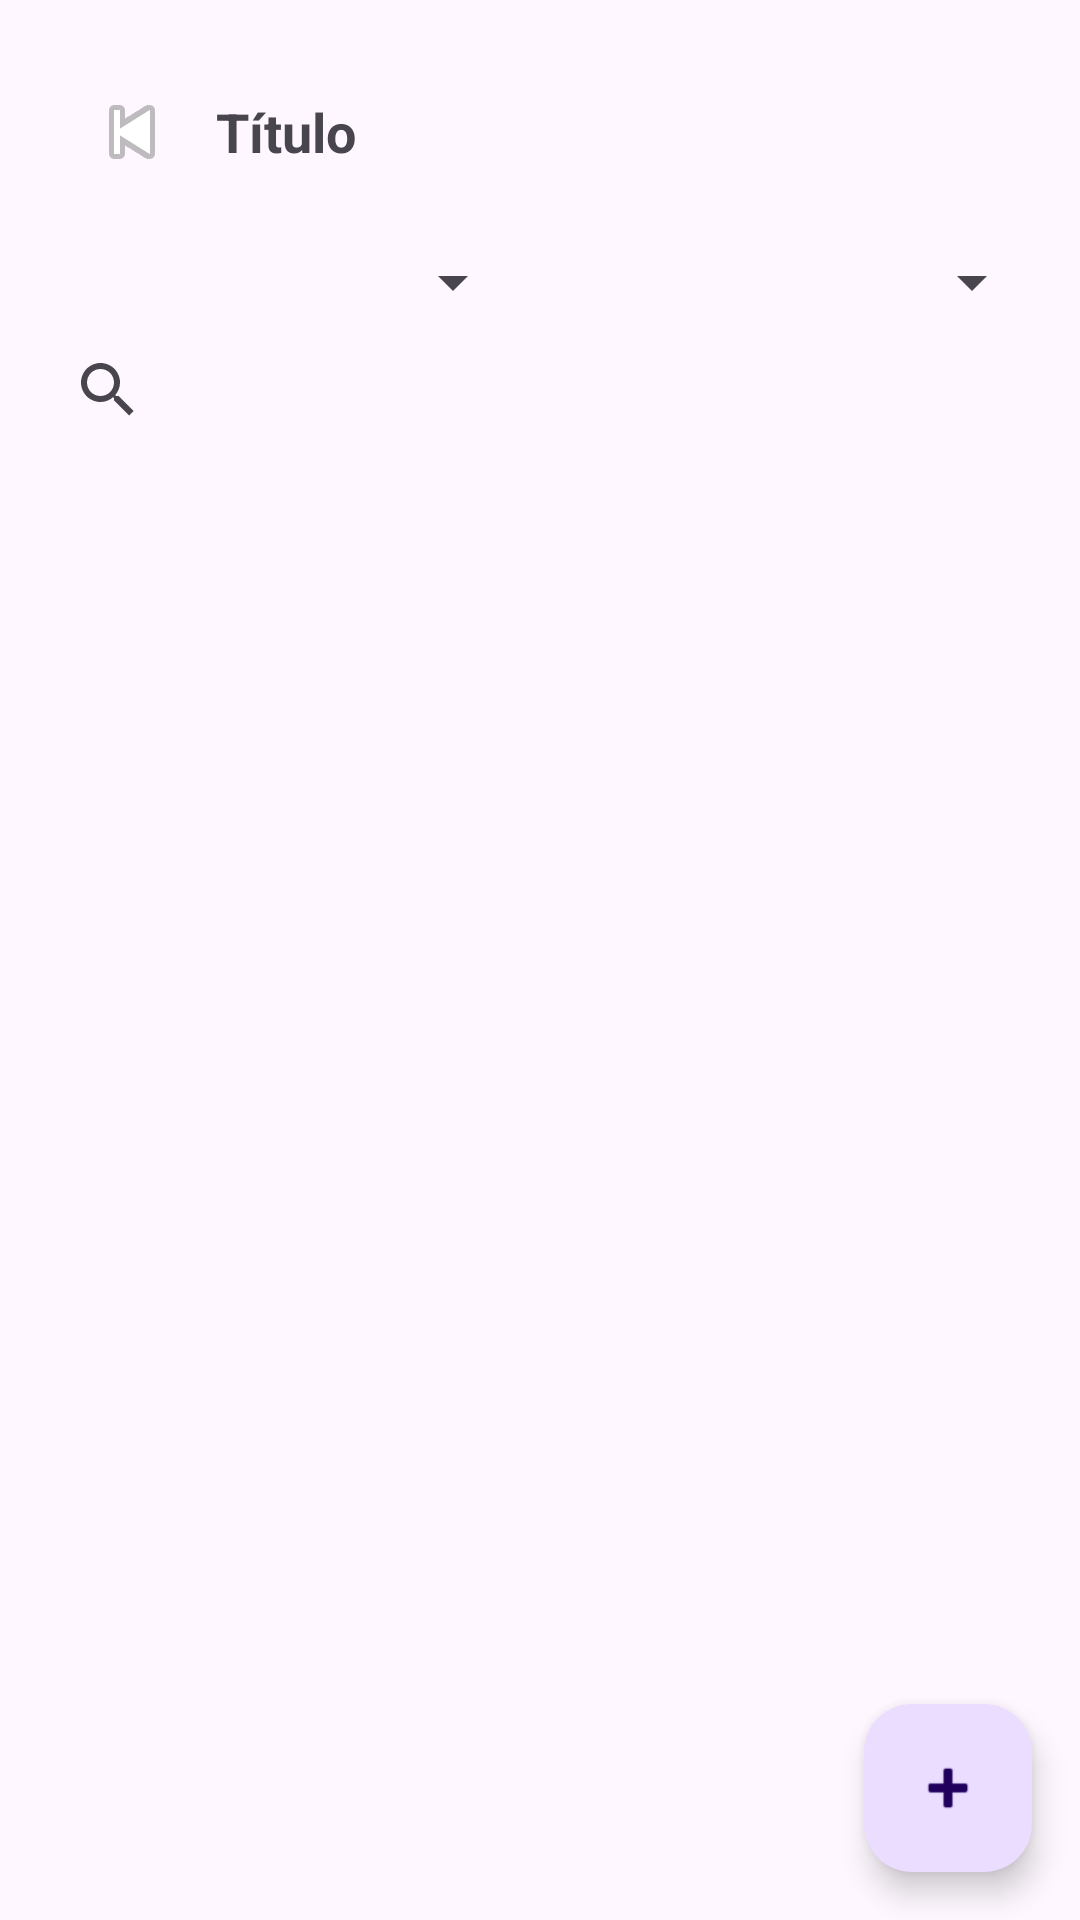

Named icons in this screenshot (1080w x 1920h) and their centers, (x,y):
Adicionar: (948,1788)
Voltar: (132,132)
